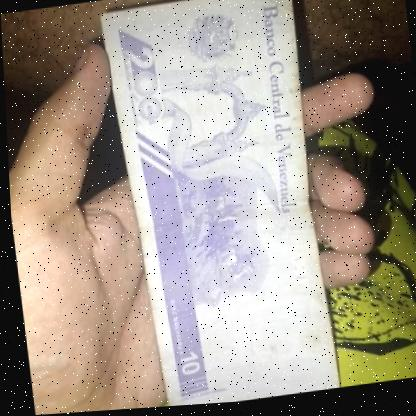ten-back-vef: (101, 0, 338, 411)
